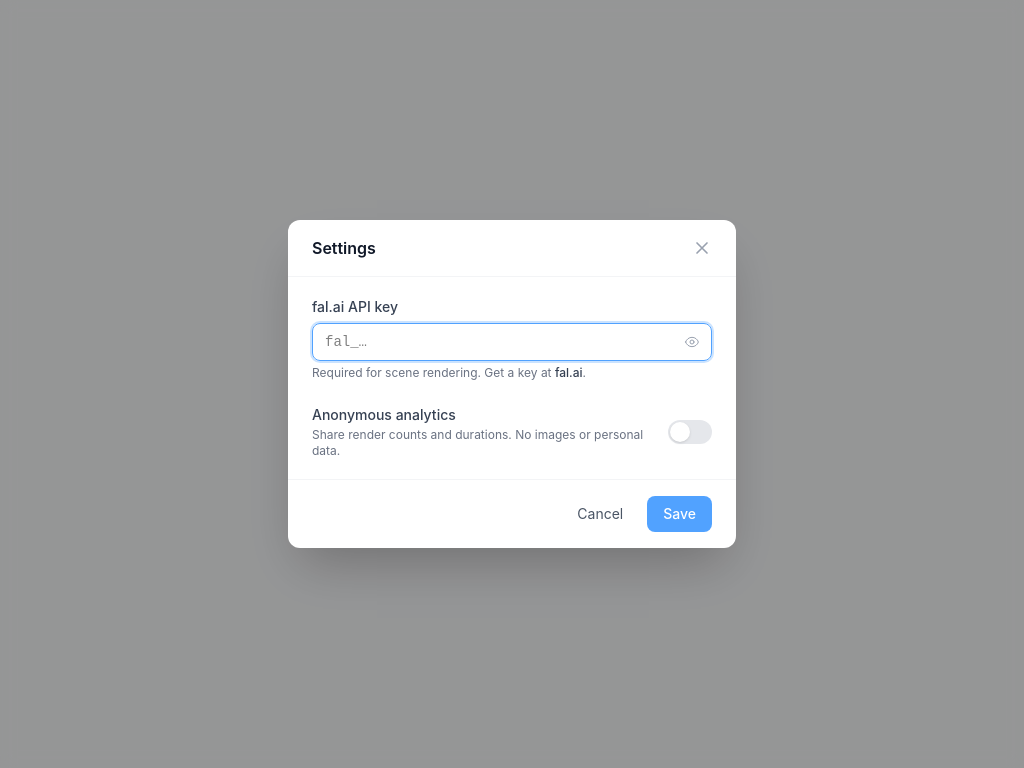
it: SettingsPanel › shows success message after successful save
This screenshot has width=1024, height=768.
Step 1. Click the button "Save" → (680, 514), box [647, 496, 712, 532]
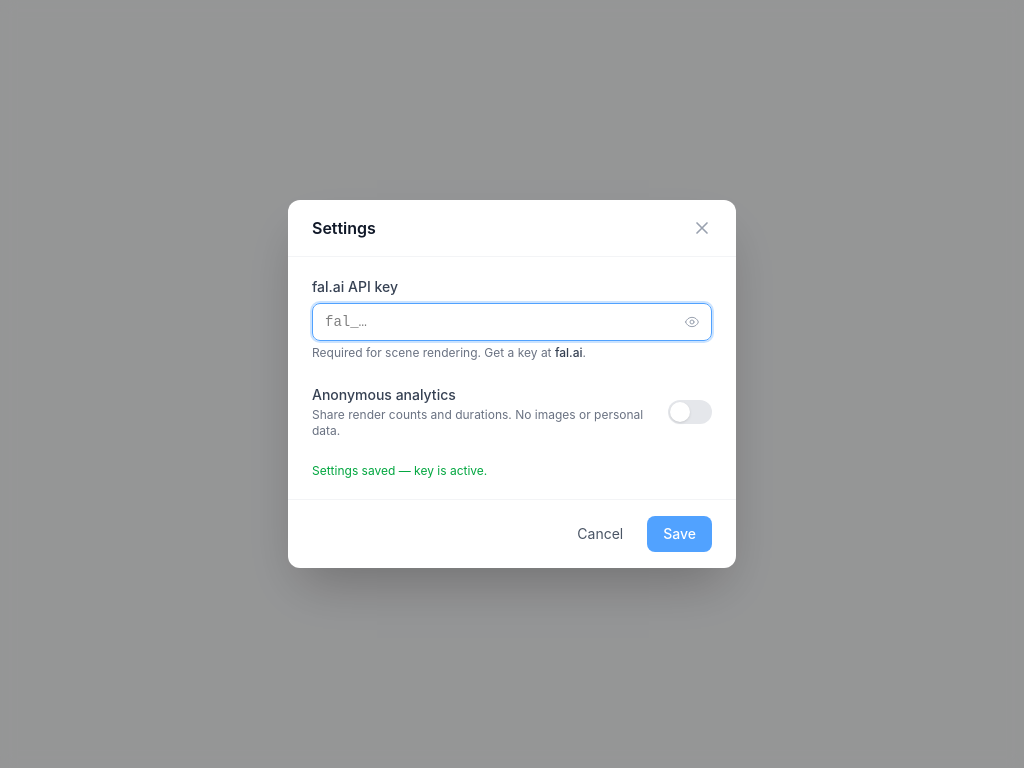
Check: the message "Settings saved — key is active." is shown, box [312, 463, 487, 478]
